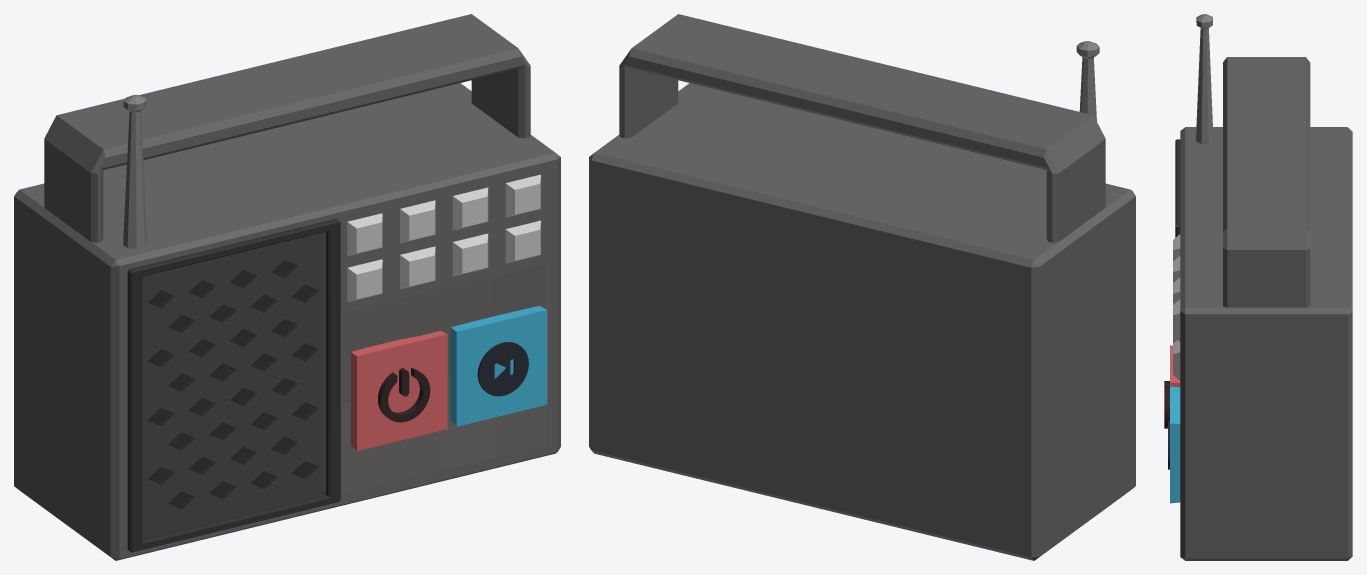
Rendered from Radio.fbx.
3 views of the same model, side by side, from view 1: azimuth 30°, elevation 25°; view 2: azimuth 150°, elevation 25°; view 3: azimuth 270°, elevation 25° (orthographic). The views are drawn at different scales.
Visible parts, largest first — view 1: Btn Next, Curve.001, Curve; view 2: Btn Next; view 3: Btn Next, Curve.
Part boxes in pixels (x1,y1,x2,y2): Btn Next: (14, 14, 560, 560); Curve.001: (477, 342, 528, 396); Curve: (378, 368, 430, 422); Btn Next: (589, 14, 1135, 560); Btn Next: (1170, 14, 1352, 560); Curve: (1164, 381, 1169, 428).
Size of the model in its own units: 108 by 103 by 46.32.
